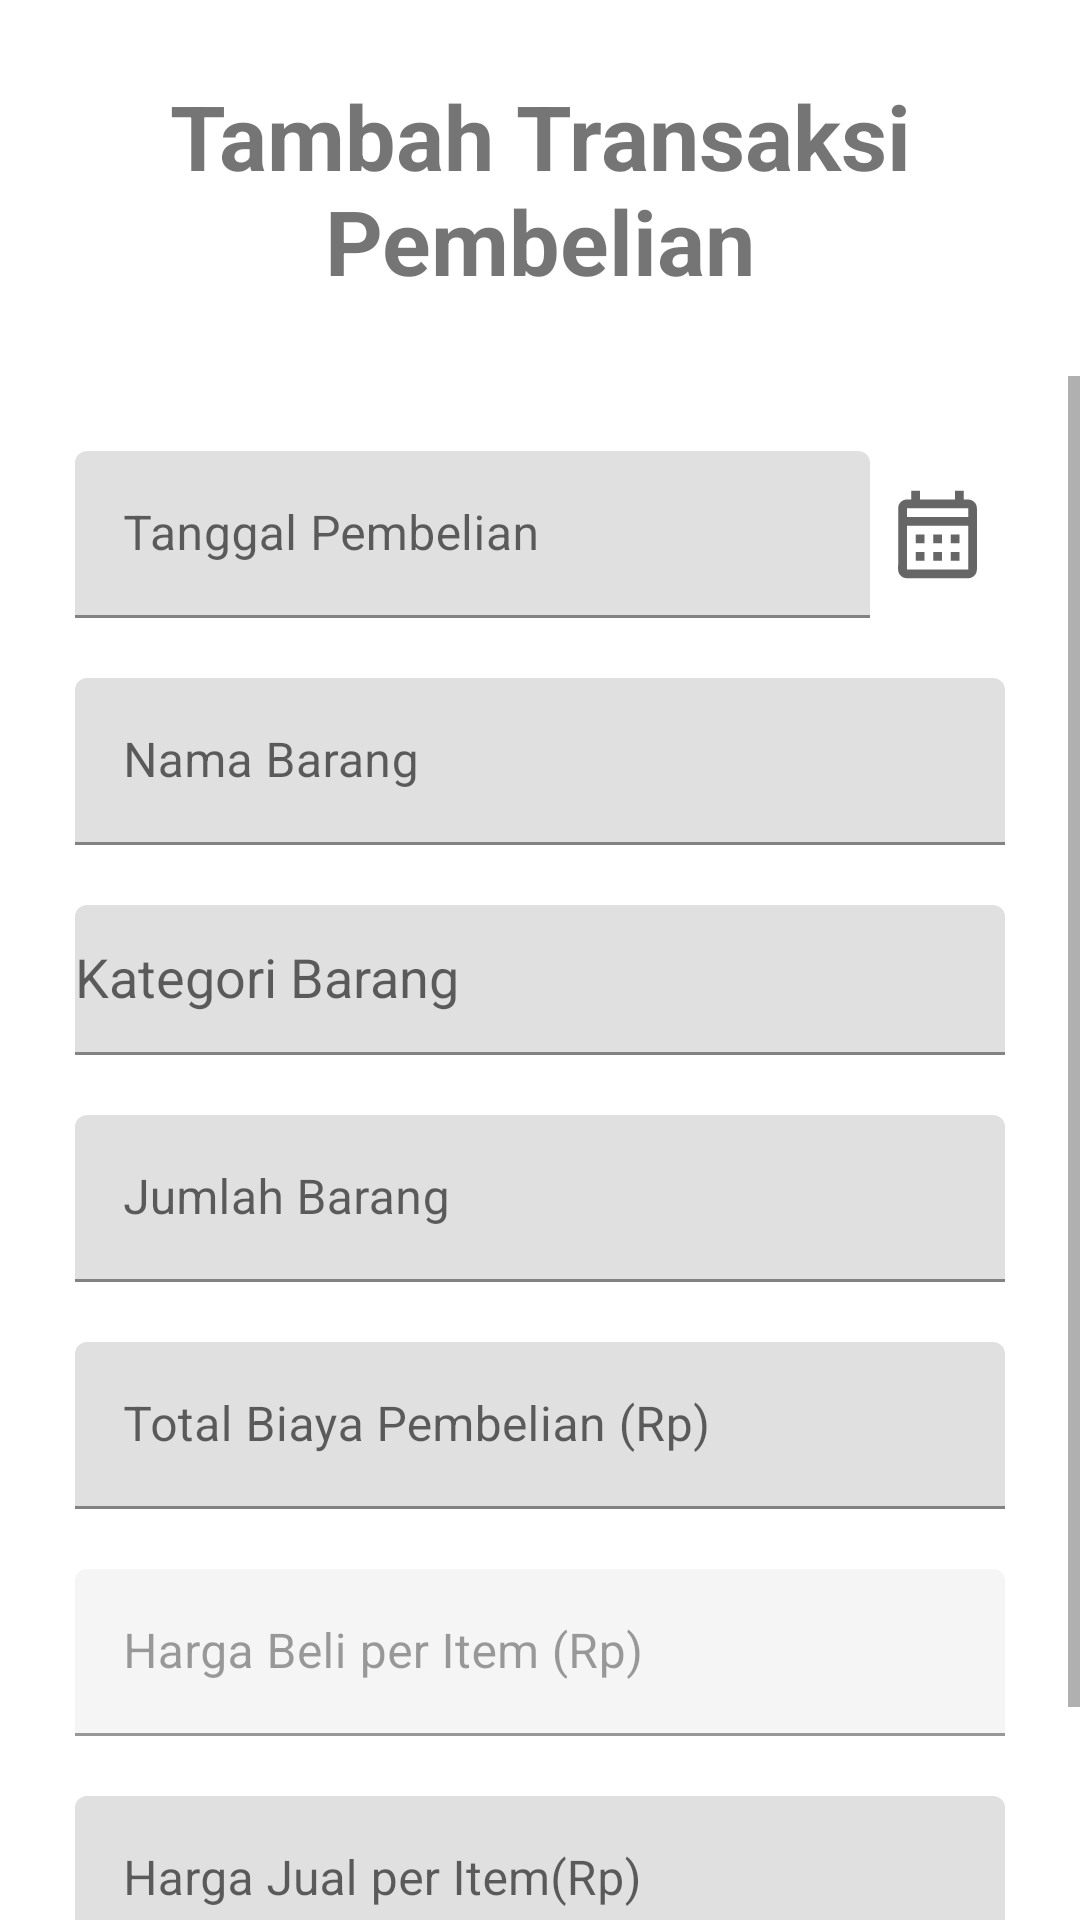

Icons on this 1080*1920 Android screen, each with its box as BBox(x1, y1, x2, y2):
calendar month: BBox(898, 490, 977, 579)
